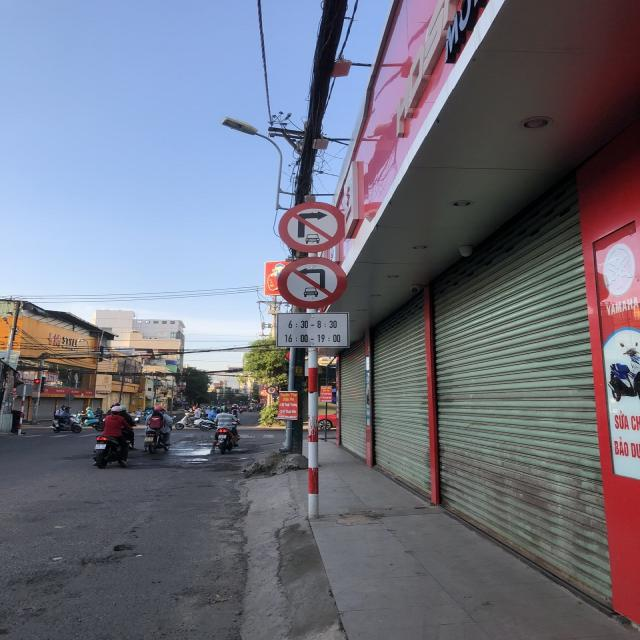Bien bao cam xe o to re phai: (275, 198, 348, 255)
Bien bao cam xe o to re trai: (272, 253, 346, 310)
